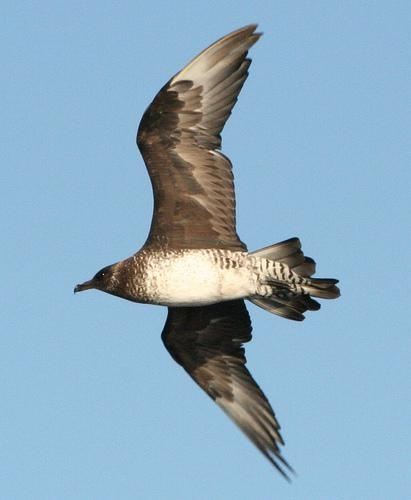bird: (67, 22, 341, 487)
